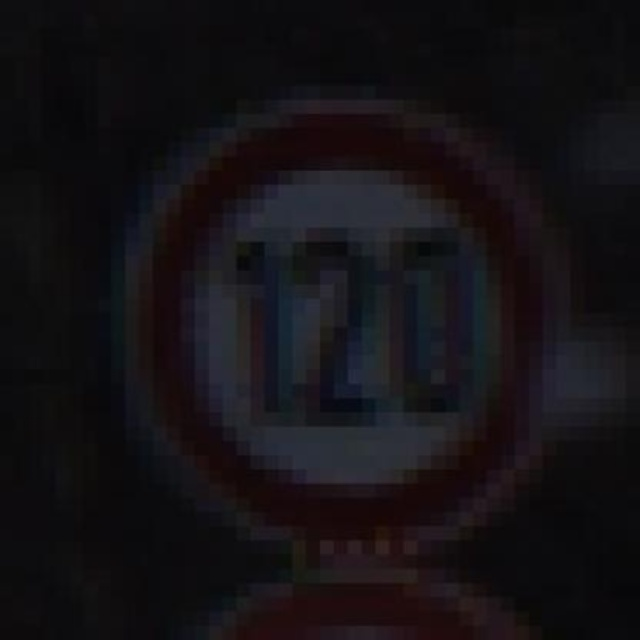Tốc độ tối đa cho phép 120km/h: (143, 120, 543, 549)
